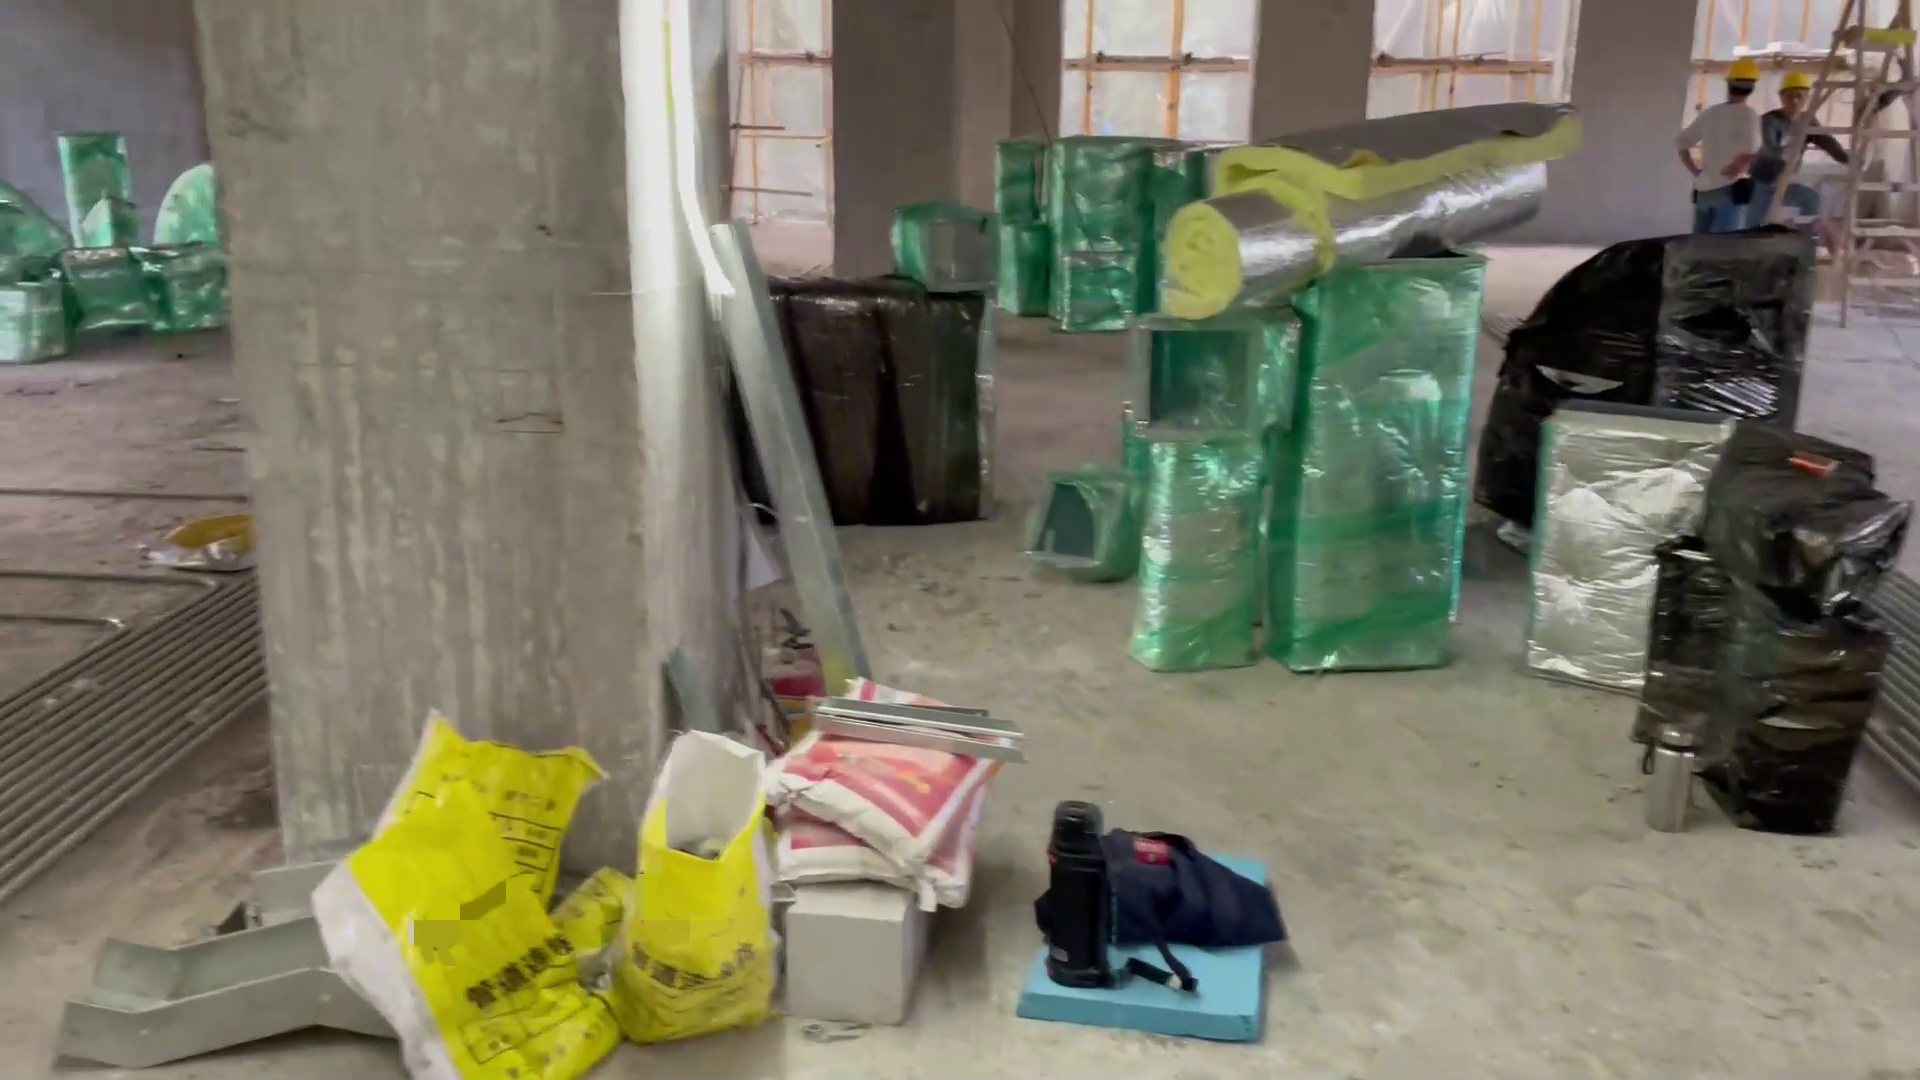helmet: (1779, 68, 1818, 89), (1725, 60, 1757, 82)
person: (1763, 50, 1850, 257), (1675, 65, 1758, 255)
